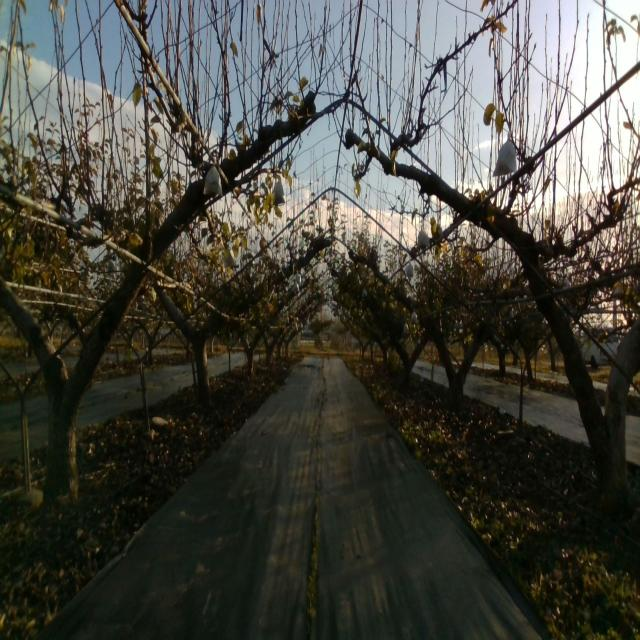pearbags: (492, 130, 518, 178), (203, 164, 224, 198), (416, 223, 431, 248), (273, 182, 286, 204), (223, 250, 237, 269)
